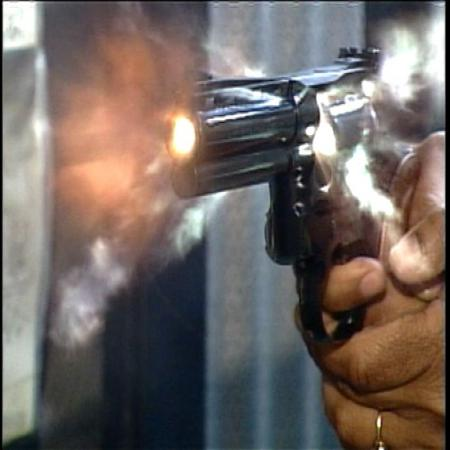Pistol: (164, 41, 428, 344)
